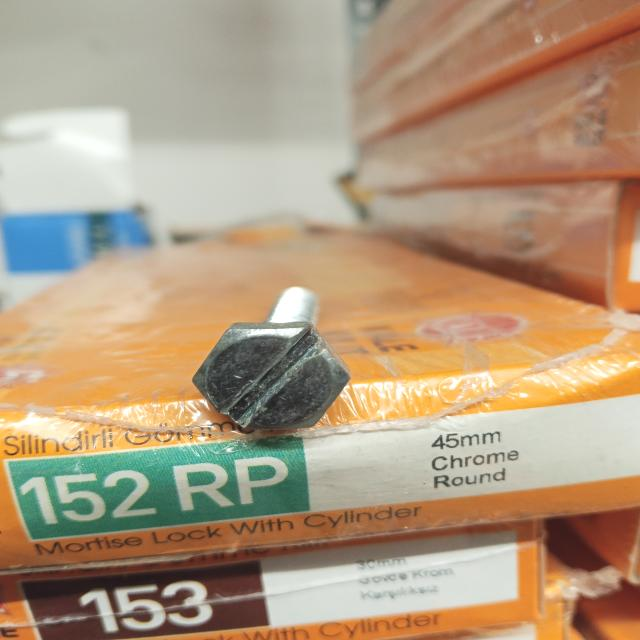Slotted: (191, 321, 349, 437)
